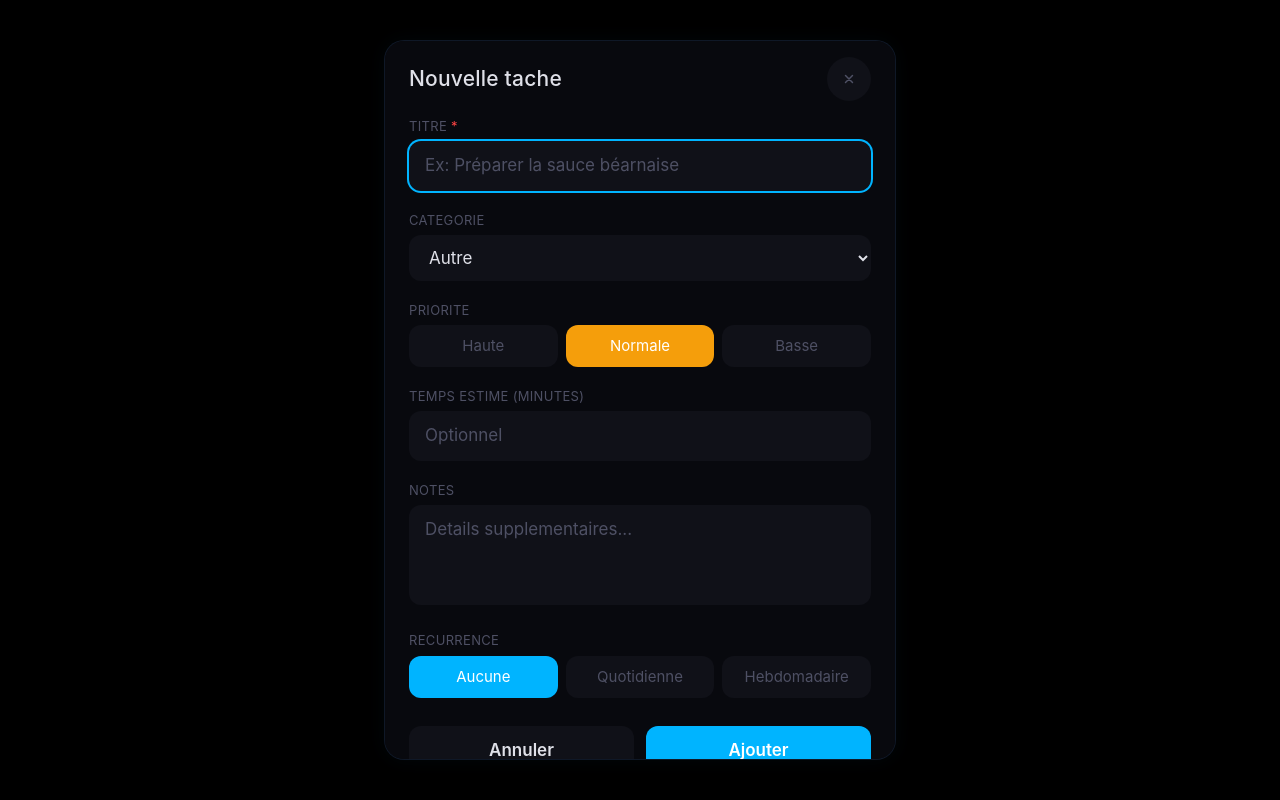
Test: TaskForm › shows error on empty title submit
Step 1. Click the button "Ajouter" → (758, 750), box [646, 726, 871, 775]
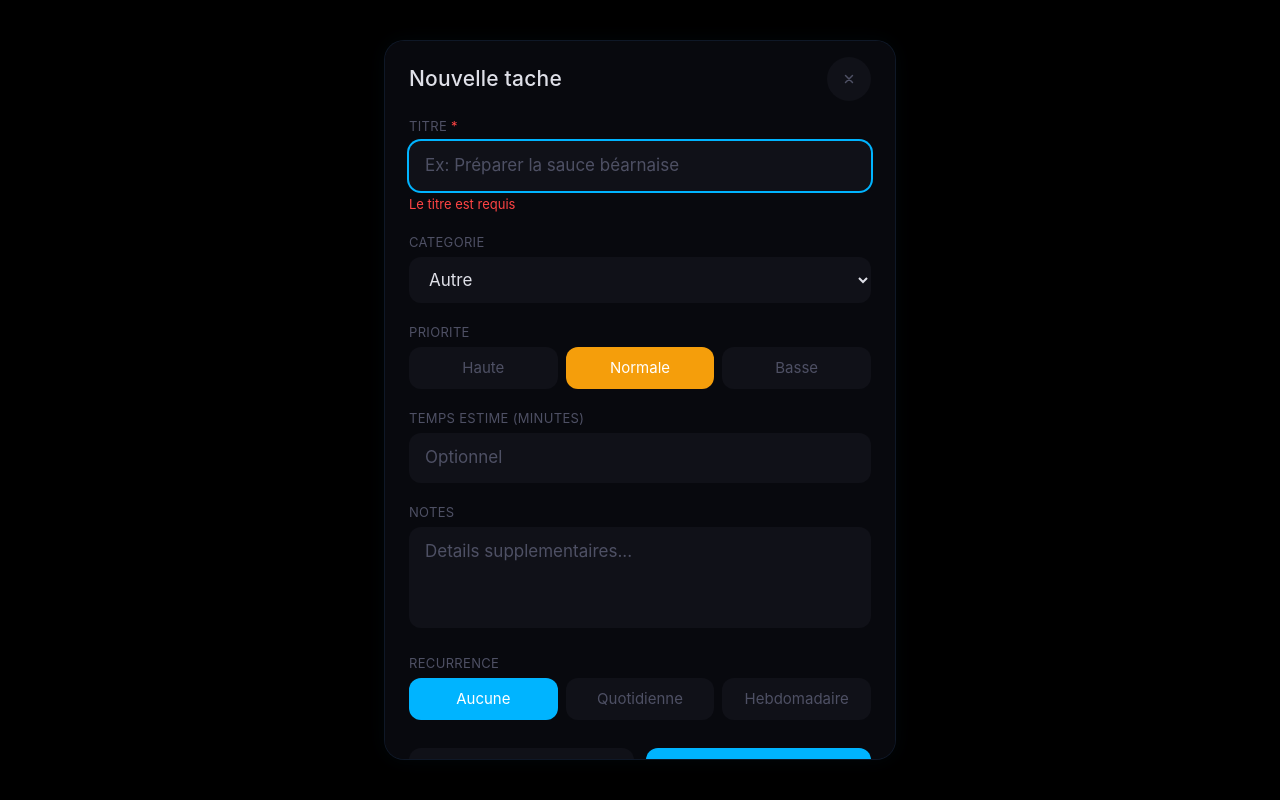
Check: the text "Le titre est requis" is shown, box [409, 196, 515, 212]
